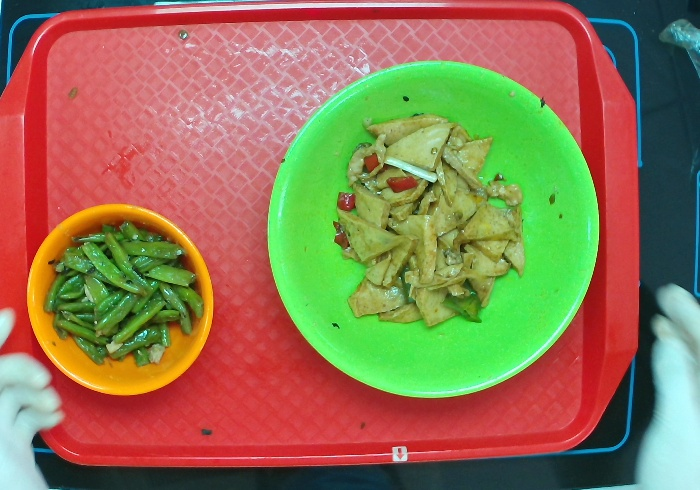YKMZ-Ju_Se_Yuan_Wan: (19, 198, 221, 404)
YKMZ-Lv_Se_Tang_Wan: (257, 56, 602, 411)
